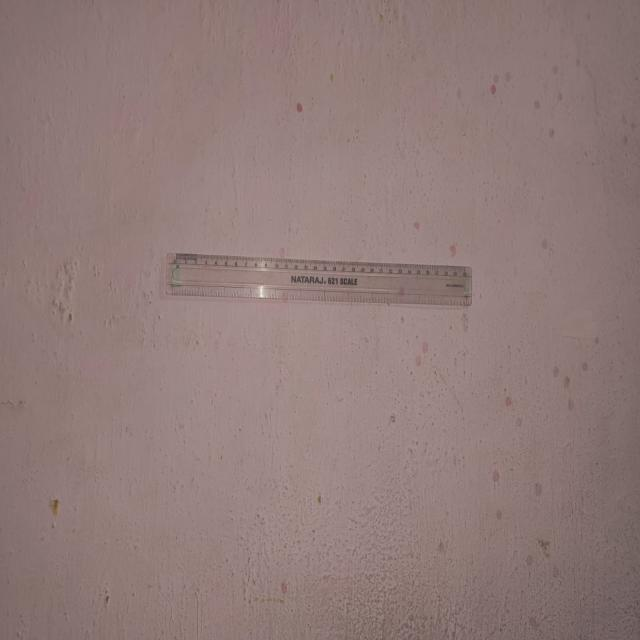scale: (171, 257, 475, 306)
